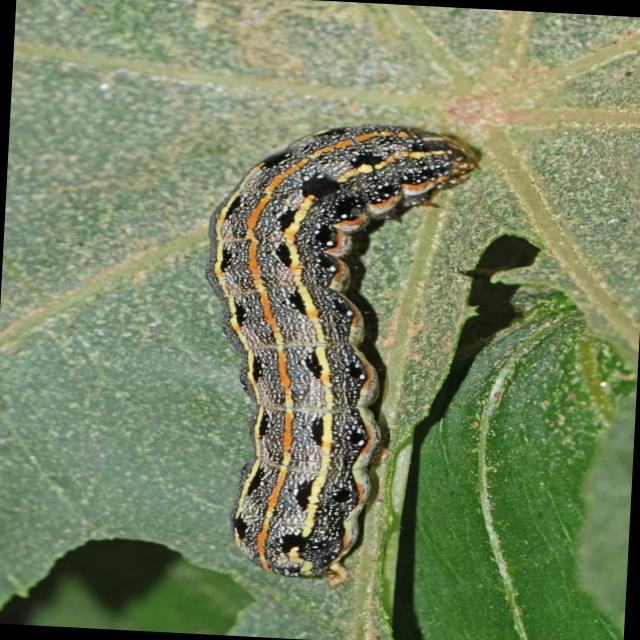Armyworm: (137, 57, 501, 591)
